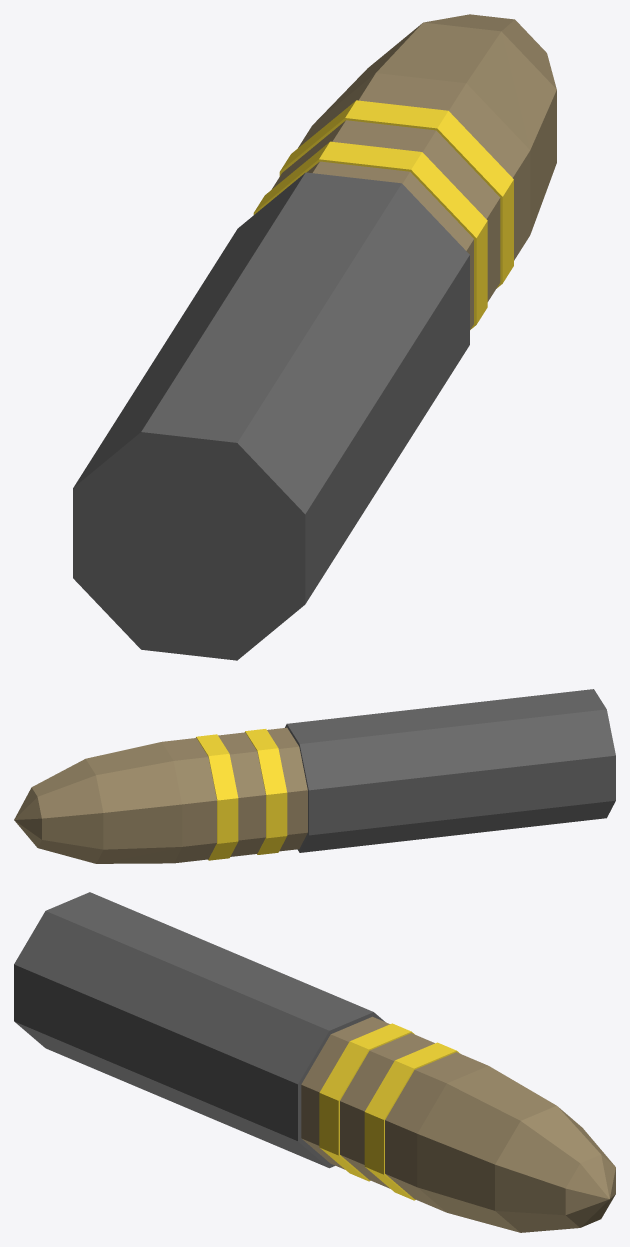
File: ce_ammo2_rcl84_hedp_a.obj
The picture shows the model from 3 angles, top to bottom: view 1: azimuth 30°, elevation 25°; view 2: azimuth 150°, elevation 25°; view 3: azimuth 270°, elevation 25°; orthographic projection. The views are drawn at different scales.
Visible parts, largest first — view 1: ce_ammo2_rcl84_hedp_a_0, ce_ammo2_rcl84_hedp_a_6, ce_ammo2_rcl84_hedp_a_5, ce_ammo2_rcl84_hedp_a_3, ce_ammo2_rcl84_hedp_a_4, ce_ammo2_rcl84_hedp_a_2, ce_ammo2_rcl84_hedp_a_1, ce_ammo2_rcl84_hedp_a_7; view 2: ce_ammo2_rcl84_hedp_a_0, ce_ammo2_rcl84_hedp_a_6, ce_ammo2_rcl84_hedp_a_7, ce_ammo2_rcl84_hedp_a_5, ce_ammo2_rcl84_hedp_a_3, ce_ammo2_rcl84_hedp_a_4, ce_ammo2_rcl84_hedp_a_2, ce_ammo2_rcl84_hedp_a_1, ce_ammo2_rcl84_hedp_a_8; view 3: ce_ammo2_rcl84_hedp_a_0, ce_ammo2_rcl84_hedp_a_6, ce_ammo2_rcl84_hedp_a_7, ce_ammo2_rcl84_hedp_a_5, ce_ammo2_rcl84_hedp_a_3, ce_ammo2_rcl84_hedp_a_2, ce_ammo2_rcl84_hedp_a_4, ce_ammo2_rcl84_hedp_a_1, ce_ammo2_rcl84_hedp_a_8.
Part boxes in pixels (x1=…): ce_ammo2_rcl84_hedp_a_0: x1=73, y1=172, x2=469, y2=660; ce_ammo2_rcl84_hedp_a_6: x1=313, y1=22, x2=556, y2=234; ce_ammo2_rcl84_hedp_a_5: x1=298, y1=73, x2=530, y2=260; ce_ammo2_rcl84_hedp_a_3: x1=271, y1=120, x2=500, y2=301; ce_ammo2_rcl84_hedp_a_4: x1=279, y1=100, x2=513, y2=288; ce_ammo2_rcl84_hedp_a_2: x1=253, y1=141, x2=487, y2=329; ce_ammo2_rcl84_hedp_a_1: x1=307, y1=161, x2=473, y2=329; ce_ammo2_rcl84_hedp_a_7: x1=423, y1=14, x2=556, y2=89; ce_ammo2_rcl84_hedp_a_0: x1=285, y1=689, x2=615, y2=852; ce_ammo2_rcl84_hedp_a_6: x1=86, y1=742, x2=182, y2=863; ce_ammo2_rcl84_hedp_a_7: x1=32, y1=759, x2=103, y2=863; ce_ammo2_rcl84_hedp_a_5: x1=162, y1=738, x2=216, y2=863; ce_ammo2_rcl84_hedp_a_3: x1=218, y1=732, x2=265, y2=856; ce_ammo2_rcl84_hedp_a_4: x1=196, y1=734, x2=238, y2=860; ce_ammo2_rcl84_hedp_a_2: x1=245, y1=729, x2=287, y2=854; ce_ammo2_rcl84_hedp_a_1: x1=267, y1=727, x2=307, y2=851; ce_ammo2_rcl84_hedp_a_8: x1=14, y1=787, x2=41, y2=847; ce_ammo2_rcl84_hedp_a_0: x1=14, y1=892, x2=384, y2=1168; ce_ammo2_rcl84_hedp_a_6: x1=417, y1=1066, x2=556, y2=1232; ce_ammo2_rcl84_hedp_a_7: x1=495, y1=1105, x2=614, y2=1232; ce_ammo2_rcl84_hedp_a_5: x1=385, y1=1052, x2=488, y2=1212; ce_ammo2_rcl84_hedp_a_3: x1=340, y1=1033, x2=434, y2=1188; ce_ammo2_rcl84_hedp_a_2: x1=319, y1=1023, x2=414, y2=1181; ce_ammo2_rcl84_hedp_a_4: x1=364, y1=1042, x2=460, y2=1200; ce_ammo2_rcl84_hedp_a_1: x1=301, y1=1016, x2=389, y2=1169; ce_ammo2_rcl84_hedp_a_8: x1=565, y1=1154, x2=615, y2=1227.
Size of the model in its own units: 0.6596 by 0.1662 by 0.6596.
